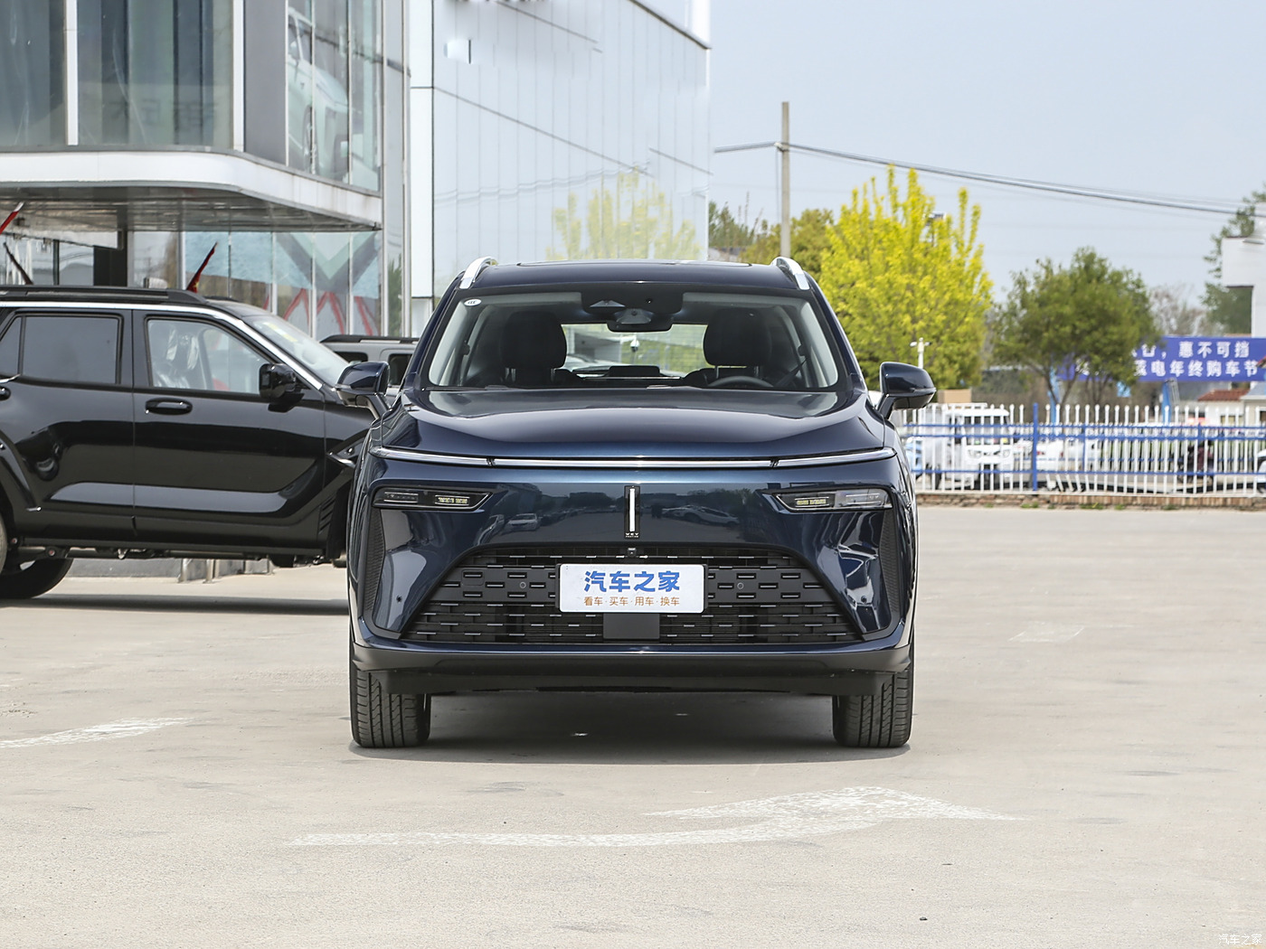WEY: (625, 486, 639, 539)
